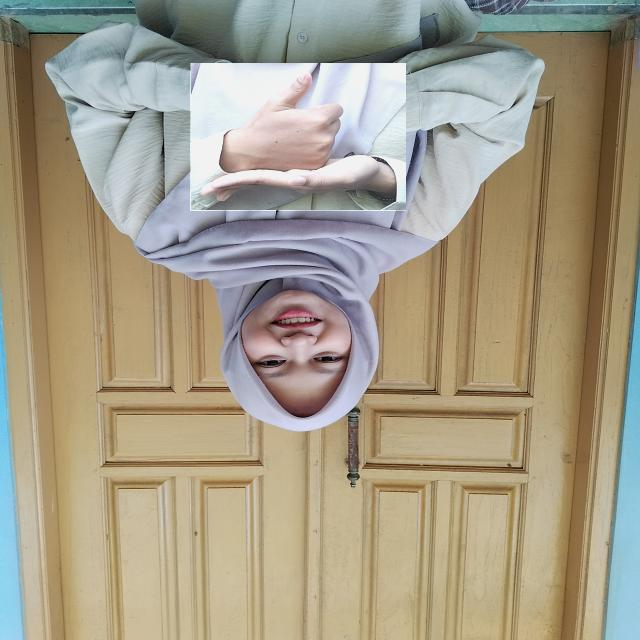cantik: (190, 63, 406, 211)
